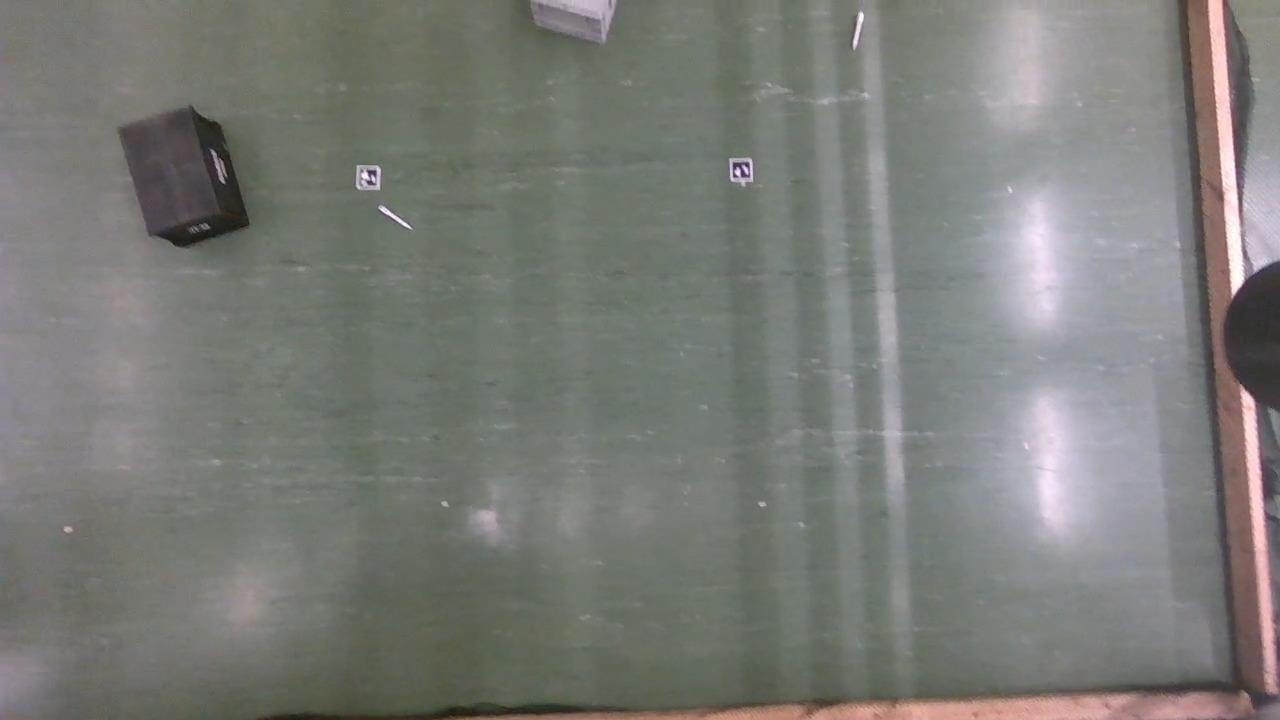probes: (381, 205, 410, 231), (853, 12, 864, 52)
rako: (119, 108, 249, 250)
